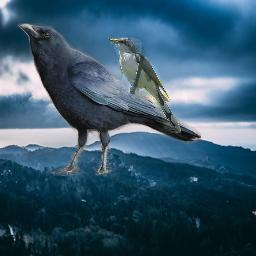Crow: (17, 23, 201, 178)
Cuckoo: (108, 37, 181, 133)
